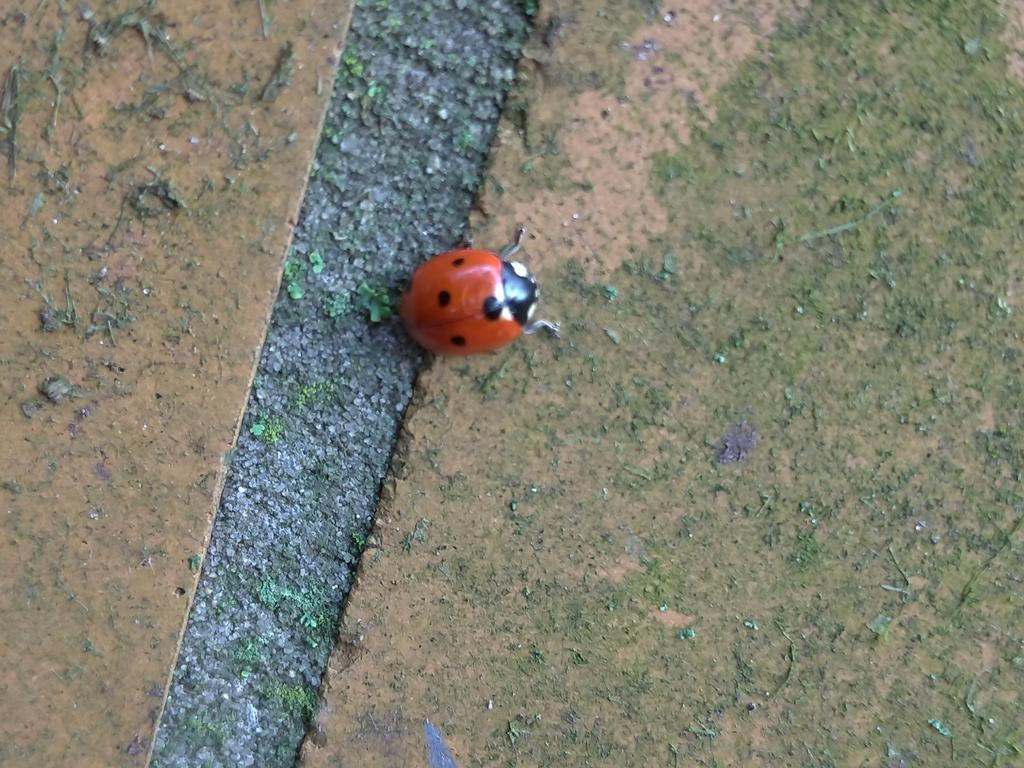ladybug: (397, 223, 567, 361)
